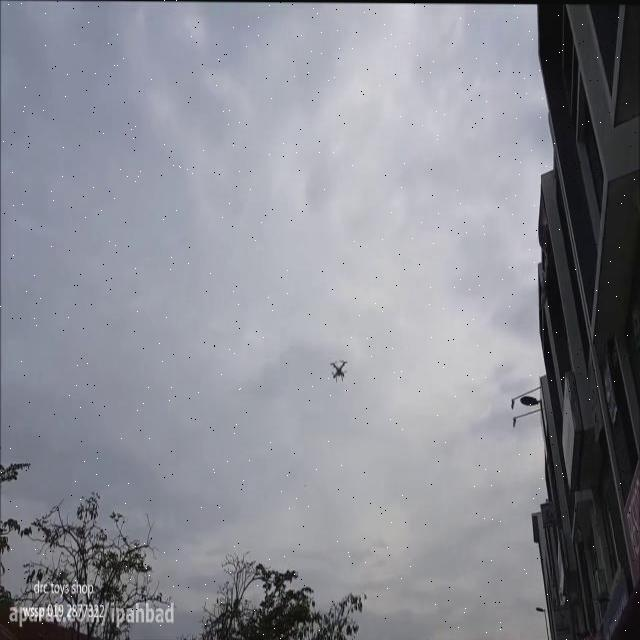drone: (329, 356, 349, 382)
